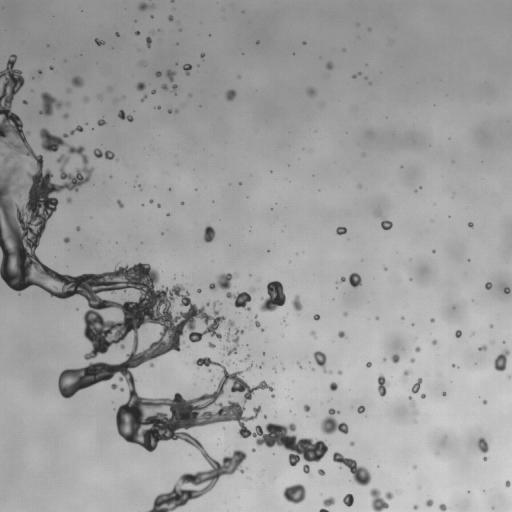droplet: (209, 273, 255, 311), (258, 281, 285, 311), (320, 408, 348, 434), (38, 92, 62, 116), (370, 488, 393, 511), (283, 484, 306, 503), (494, 349, 509, 371), (377, 373, 389, 396), (203, 226, 215, 242), (348, 273, 361, 287), (291, 295, 302, 310), (477, 438, 488, 453), (71, 76, 83, 87), (225, 89, 236, 100), (381, 219, 392, 230), (343, 494, 353, 506), (166, 69, 175, 81), (336, 226, 346, 235), (183, 64, 191, 75), (307, 87, 316, 96), (136, 82, 145, 90), (391, 354, 399, 363), (329, 382, 337, 391), (357, 405, 365, 413), (439, 503, 447, 511), (425, 499, 433, 506), (146, 37, 151, 47), (485, 282, 492, 289), (303, 404, 310, 411), (338, 331, 346, 337), (455, 330, 461, 338), (317, 469, 325, 475), (326, 62, 332, 69), (98, 119, 105, 125), (117, 200, 123, 207), (504, 287, 511, 293), (403, 370, 409, 377), (505, 480, 511, 487), (478, 345, 486, 350), (155, 71, 161, 77), (141, 95, 147, 101), (313, 314, 319, 320), (208, 342, 214, 348), (111, 383, 117, 389), (339, 277, 346, 282), (168, 15, 173, 21), (162, 84, 167, 90), (310, 331, 315, 337), (432, 339, 437, 345), (415, 346, 420, 352), (366, 361, 371, 367), (468, 222, 473, 227), (64, 237, 69, 242), (22, 100, 27, 104), (67, 197, 71, 202), (245, 354, 249, 359), (297, 362, 301, 367), (421, 393, 425, 398), (135, 31, 139, 35), (115, 32, 119, 36), (200, 53, 204, 57), (151, 90, 155, 94), (84, 97, 88, 101), (168, 109, 172, 113), (64, 114, 68, 118), (149, 199, 153, 203), (343, 312, 347, 316), (430, 318, 434, 322), (410, 358, 414, 362), (337, 370, 341, 374), (442, 392, 446, 396), (483, 400, 487, 404), (350, 441, 354, 445), (483, 457, 487, 461), (413, 505, 417, 509), (352, 75, 356, 78), (76, 226, 79, 230), (197, 289, 201, 292), (382, 358, 386, 361), (49, 66, 52, 69), (38, 70, 41, 73), (175, 109, 178, 112), (271, 394, 274, 397), (252, 448, 255, 451), (156, 106, 160, 108), (256, 41, 259, 43), (303, 41, 305, 44), (67, 89, 70, 91), (157, 204, 160, 206), (432, 250, 435, 252), (273, 367, 275, 370), (413, 466, 416, 468), (151, 15, 153, 17), (109, 87, 111, 89), (189, 94, 191, 96), (358, 185, 360, 187), (181, 202, 183, 204), (167, 213, 169, 215), (376, 317, 378, 319), (490, 325, 492, 327), (262, 329, 264, 331), (262, 352, 264, 354), (452, 364, 454, 366), (258, 366, 260, 368), (121, 388, 123, 390)
ligament: (0, 54, 324, 511), (333, 452, 371, 486), (313, 351, 331, 373), (93, 148, 114, 159), (319, 497, 335, 511), (118, 110, 133, 121), (411, 378, 422, 393), (139, 2, 154, 10), (70, 125, 83, 134), (254, 315, 260, 327), (94, 38, 104, 45), (409, 396, 415, 406), (172, 84, 177, 93), (171, 0, 174, 1)
